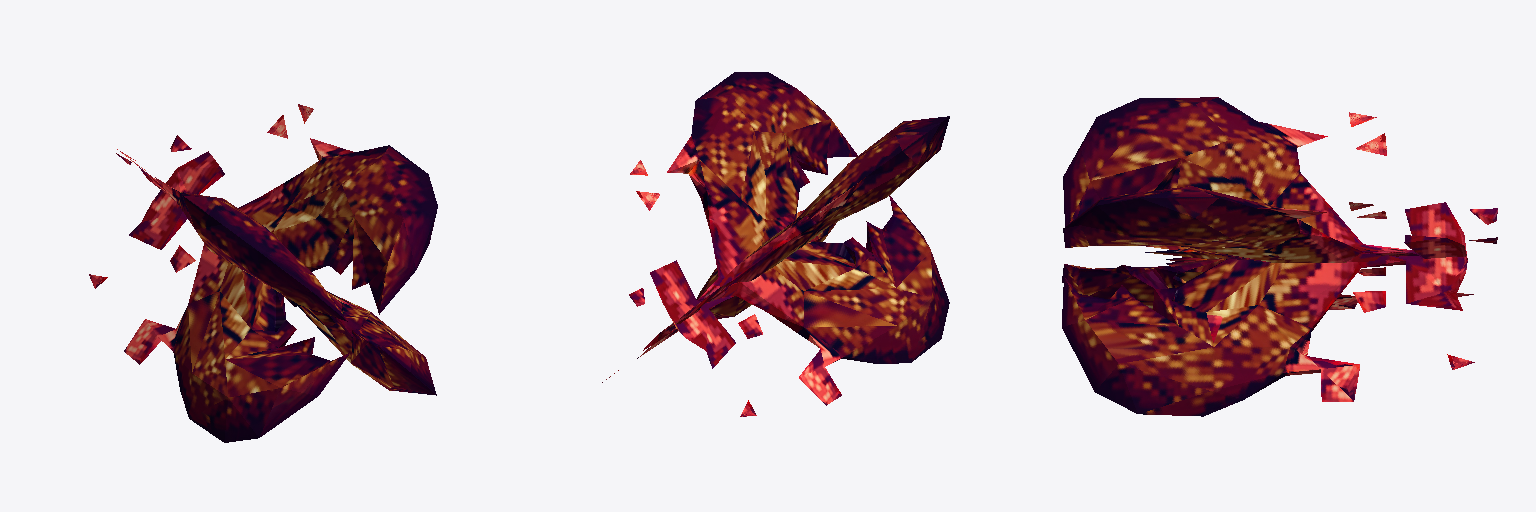
3 renders of one model, left to right at view 1: azimuth 30°, elevation 25°; view 2: azimuth 150°, elevation 25°; view 3: azimuth 270°, elevation 25°, orthographic.
Size of the model in its own units: 0.5443 by 0.545 by 0.9791.
1 materials, 1 textured.